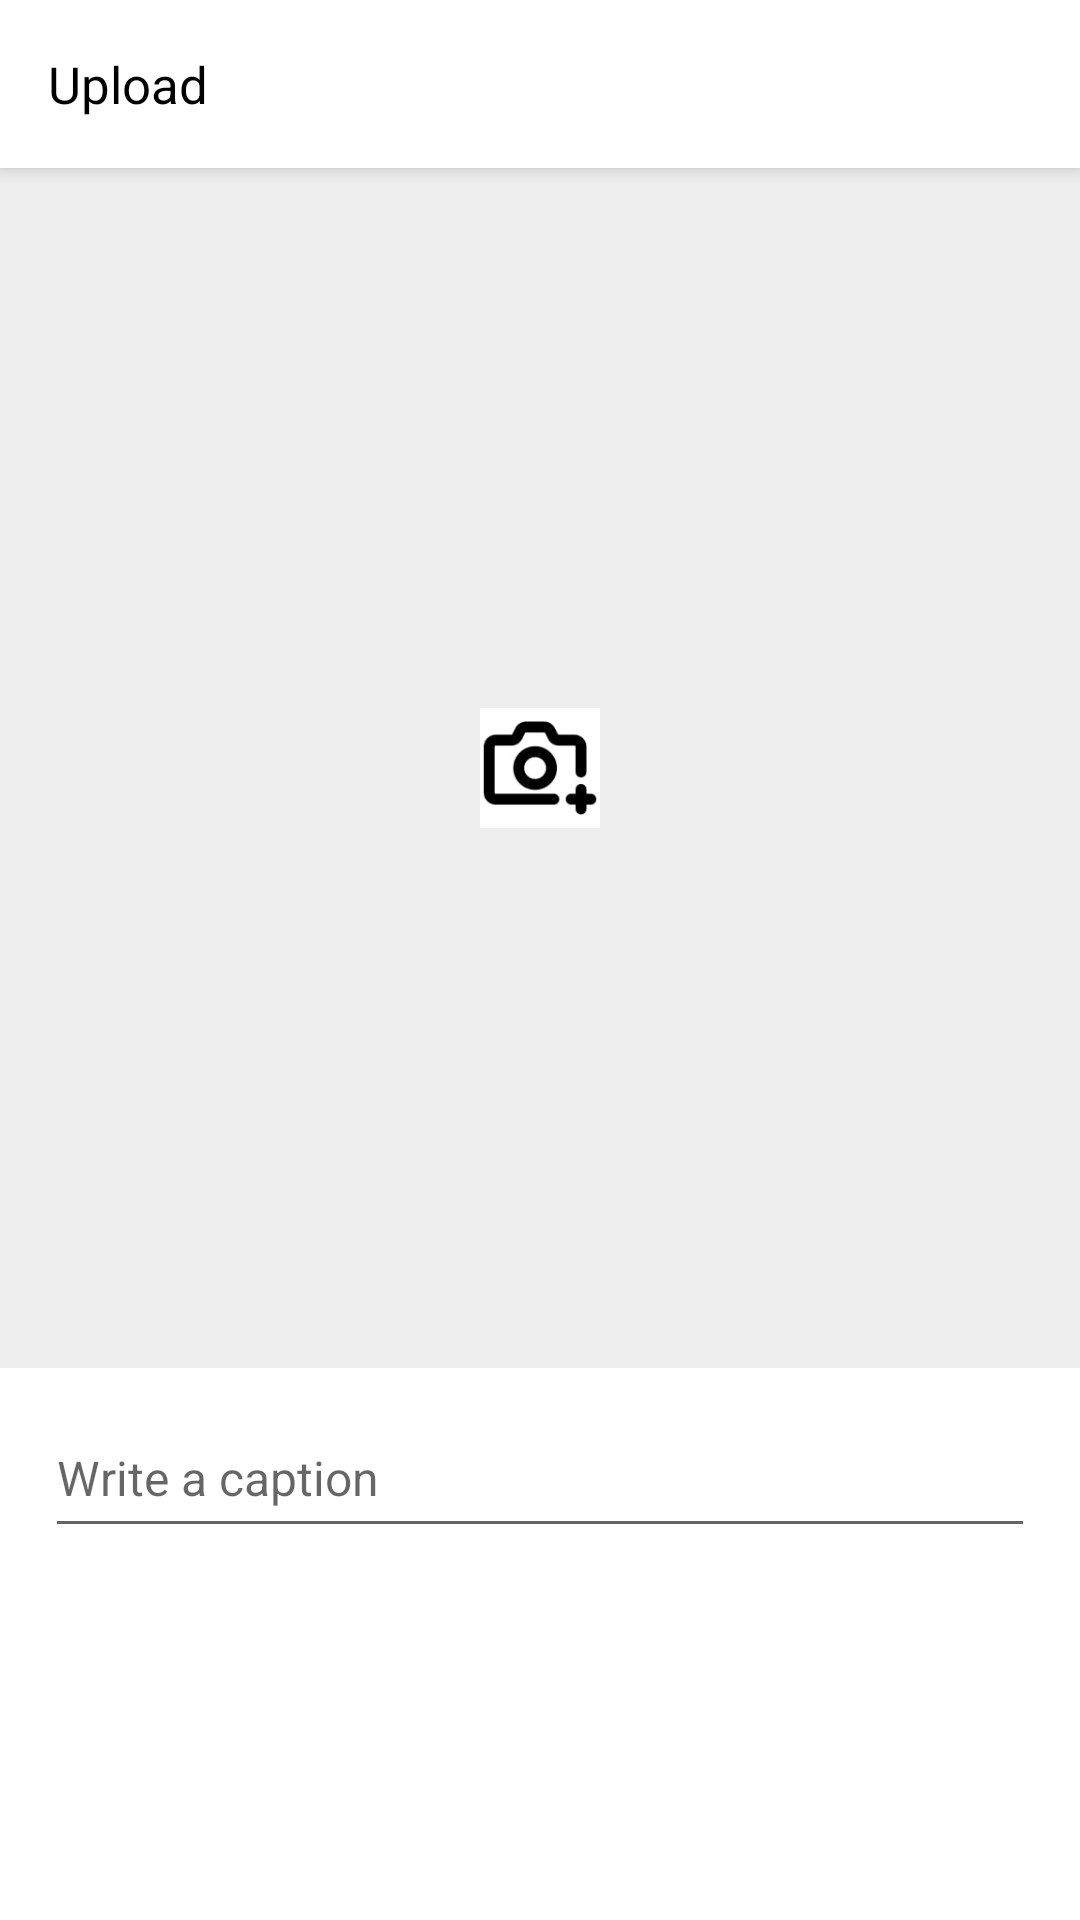

Where icons sit on this 1080x1920 app screen, as detection(x1, y1, x2, y2):
add: detection(480, 708, 600, 828)
